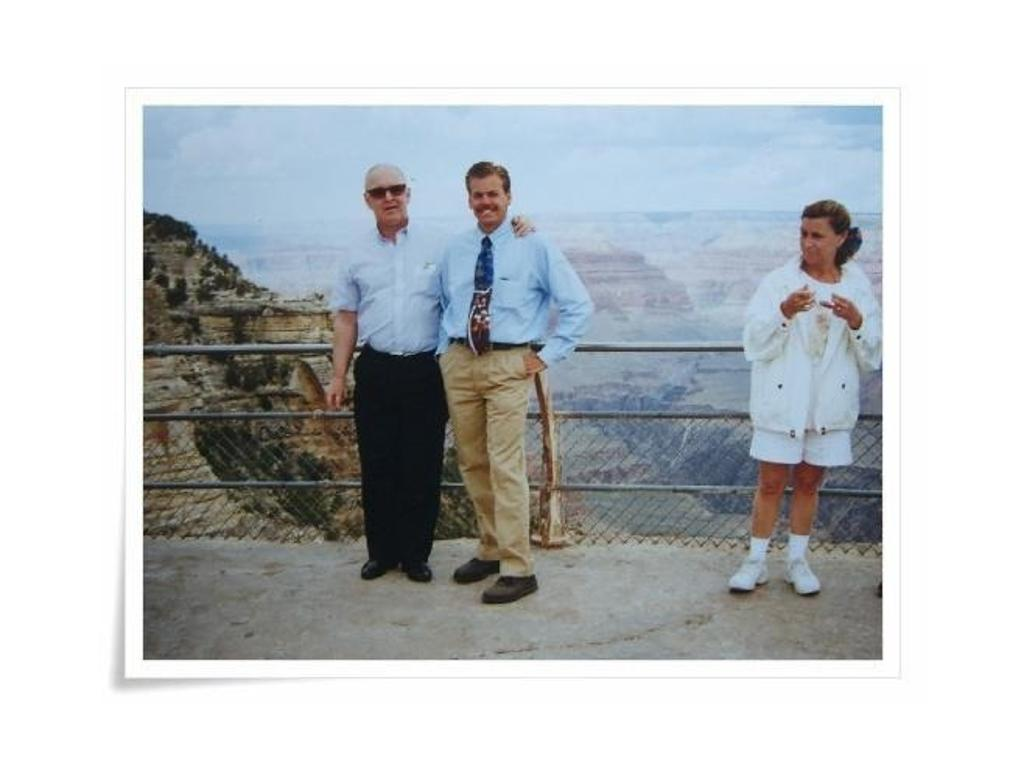face: (368, 174, 404, 225), (801, 219, 837, 264), (471, 177, 505, 221)
